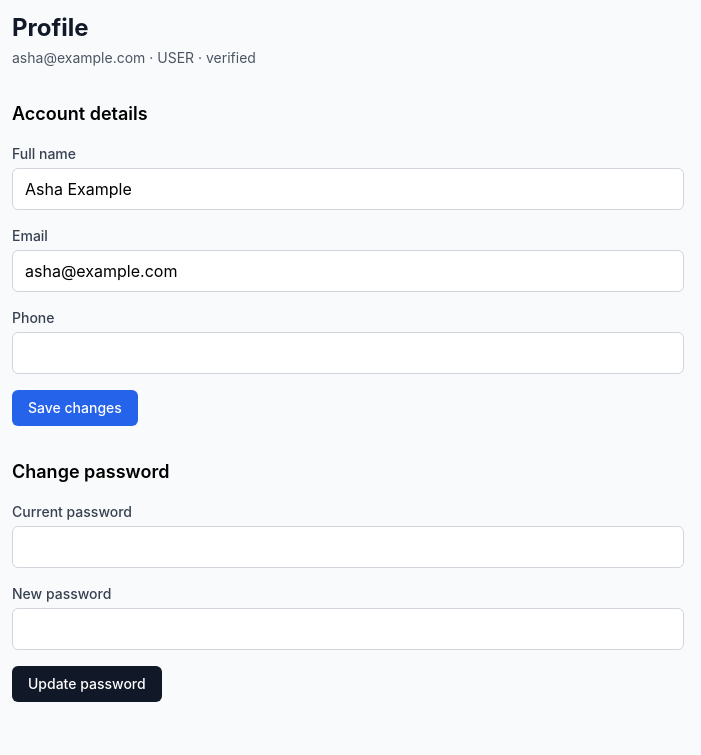
profile page › sends only the changed fields when the form is saved
This screenshot has width=701, height=755.
Replace the text in the field labelled "Full name" with "Asha Updated" at (348, 189), box [12,168,684,210]
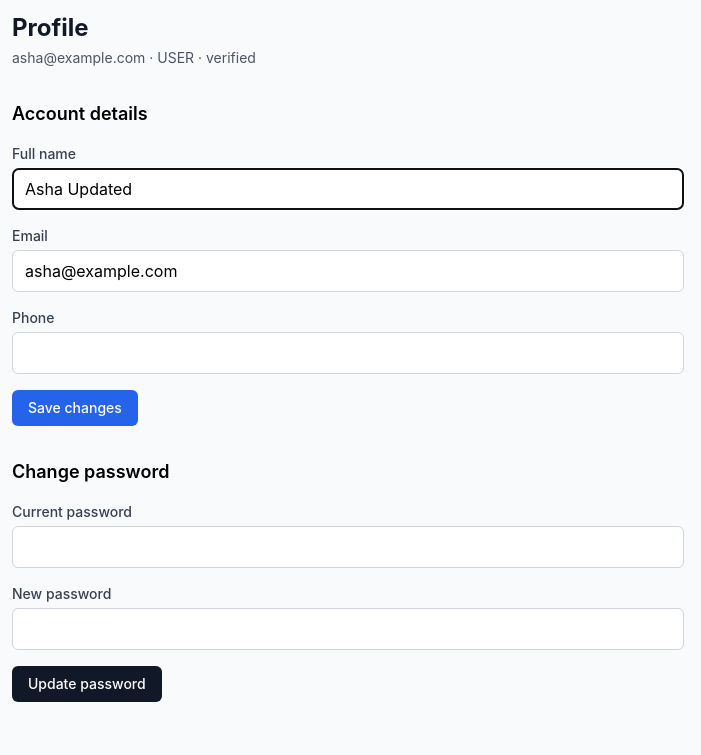
Click the button "Save changes" at (75, 408), box [12,390,138,426]
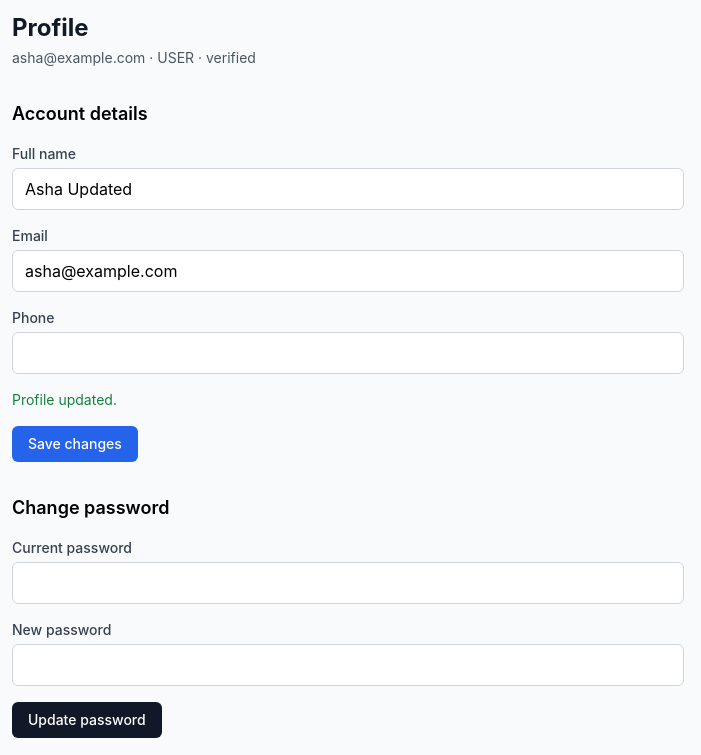
Check: the text "Profile updated." is shown, box [12,391,117,408]
